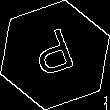P_S: (28, 25, 82, 85)
